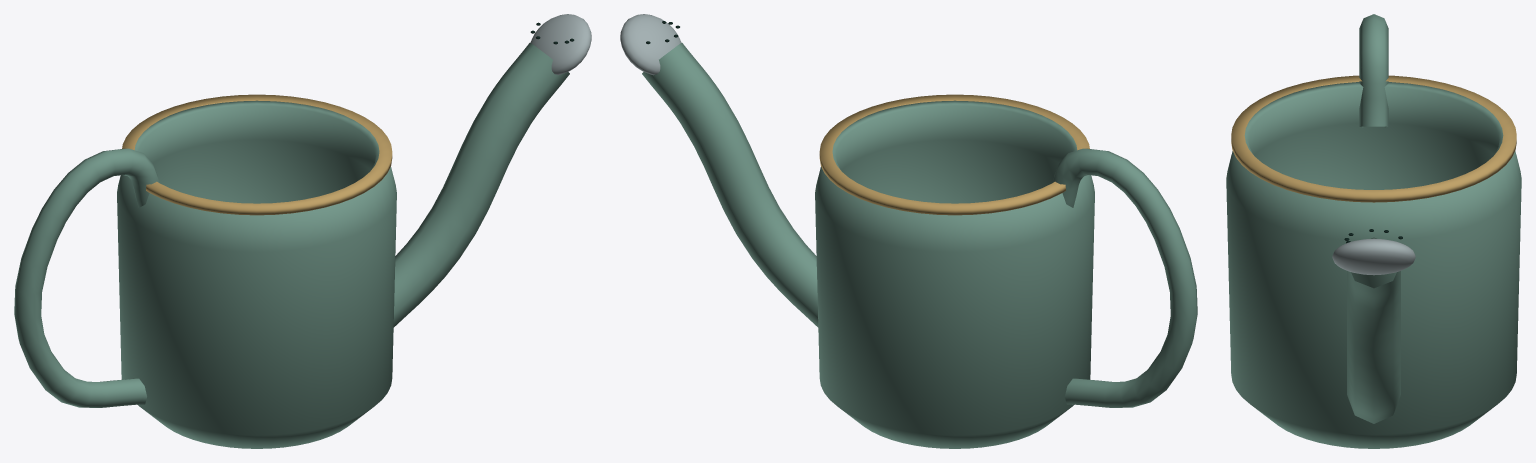
Rendered from watering_can.glb.
The picture shows the model from 3 angles, left to right: view 1: azimuth 30°, elevation 25°; view 2: azimuth 150°, elevation 25°; view 3: azimuth 270°, elevation 25°; orthographic projection. The views are drawn at different scales.
Visible parts, largest first — view 1: watering_can; view 2: watering_can; view 3: watering_can.
Part boxes in pixels (x1=…): watering_can: x1=14, y1=14, x2=591, y2=448; watering_can: x1=620, y1=14, x2=1197, y2=448; watering_can: x1=1226, y1=14, x2=1521, y2=448.
Size of the model in its own units: 0.5631 by 0.2917 by 0.24.
